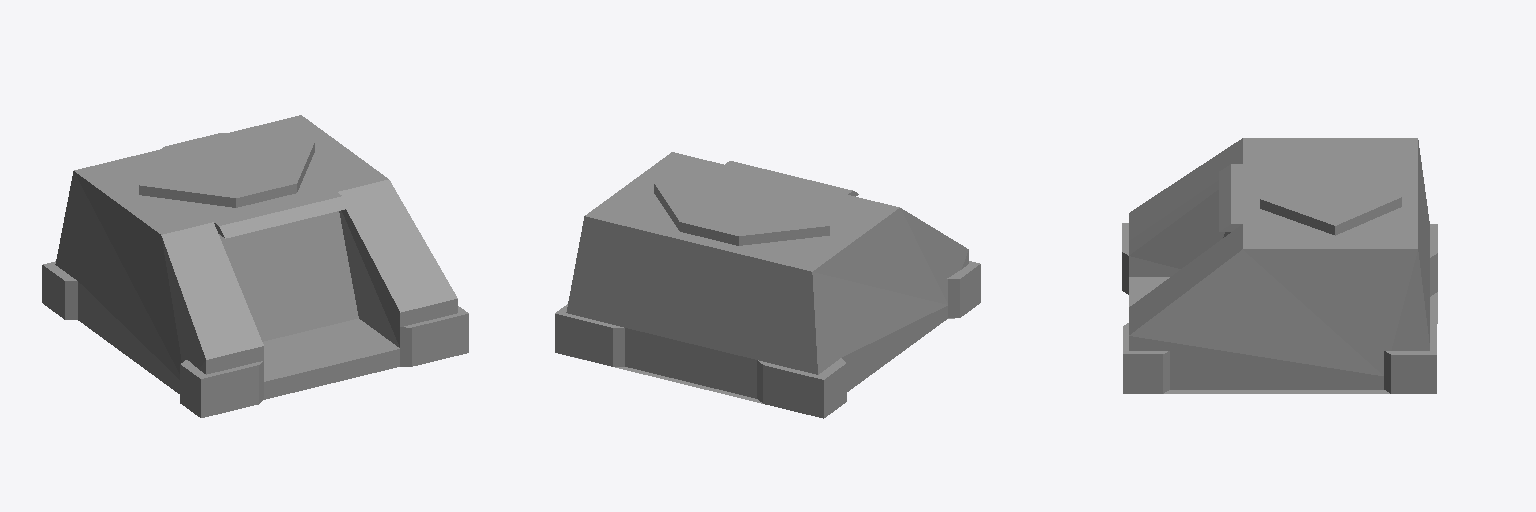
The model's file is escuela.obj.
The picture shows the model from 3 angles: view 1: azimuth 30°, elevation 25°; view 2: azimuth 150°, elevation 25°; view 3: azimuth 270°, elevation 25°; orthographic projection.
Visible parts, largest first — view 1: Cube; view 2: Cube; view 3: Cube.
Part boxes in pixels (x1,y1,x2,y2): Cube: (42,115,468,417); Cube: (555,152,980,418); Cube: (1122,138,1437,393).
Bounding box in the file's own units: 6.52 × 3.33 × 6.6.